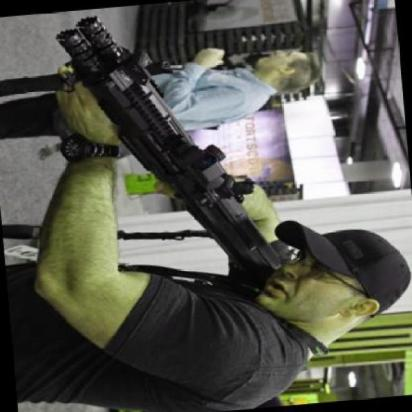Gun: (32, 0, 302, 304)
